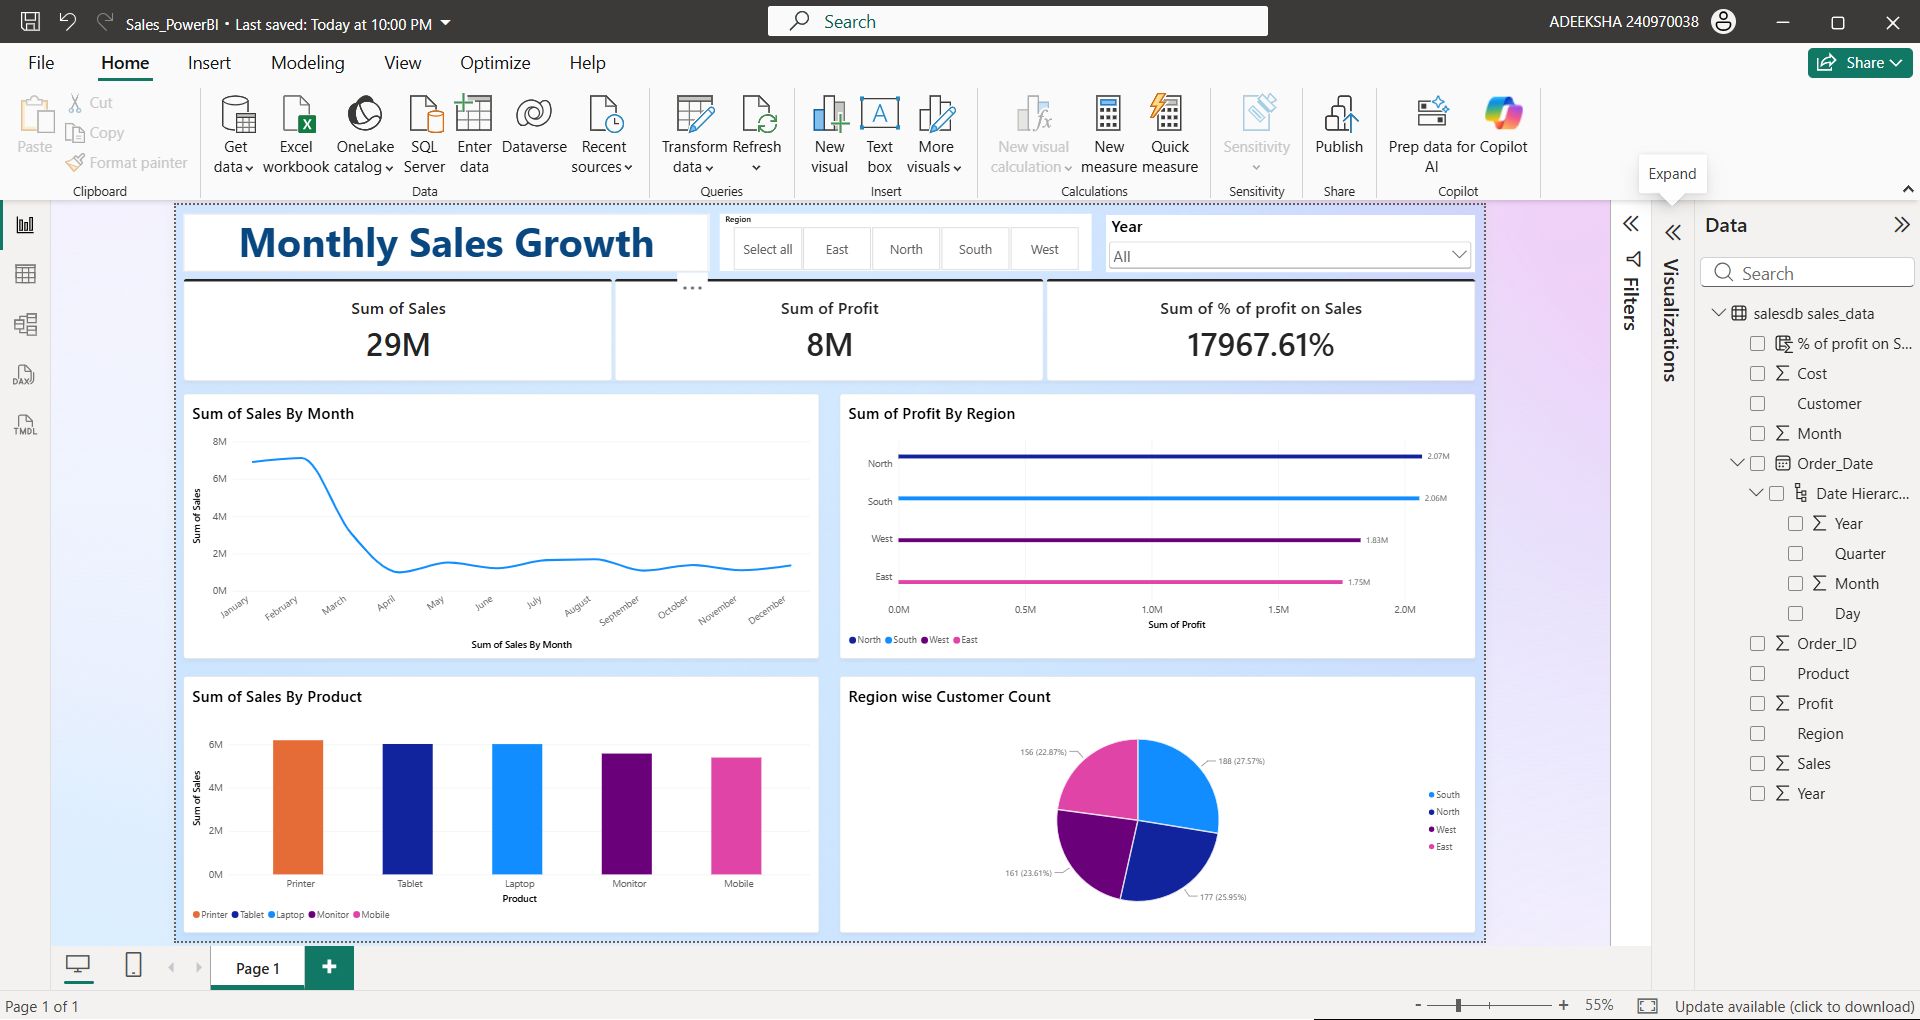

What the dashboard file says about the page in this screenshot:
{"tool":"powerbi","page":{"name":"Page 1","canvas":[1920,1080],"ordinal":0},"visuals":[{"type":"cardVisual","fields":{"Data":["Sum(salesdb sales_data.Sales)","Sum(salesdb sales_data.Profit)","Sum(salesdb sales_data.% of profit on Sales)"]},"box":[10.3,109.1,1895.7,150.3],"z":0},{"type":"lineChart","title":"Sum of Sales By Month","fields":{"Category":["salesdb sales_data.Order_Date.Variation.Date Hierarchy.Month"],"Y":["Sum(salesdb sales_data.Sales)"]},"box":[10.3,277.9,932.4,389],"z":1000},{"type":"clusteredBarChart","title":"Sum of Profit By Region","fields":{"Category":["salesdb sales_data.Region"],"Series":["salesdb sales_data.Region"],"Y":["Sum(salesdb sales_data.Profit)"]},"box":[973.6,277.9,932.4,389],"z":2000},{"type":"columnChart","title":"Sum of Sales By Product","fields":{"Category":["salesdb sales_data.Product"],"Series":["salesdb sales_data.Product"],"Y":["Sum(salesdb sales_data.Sales)"]},"box":[10.3,691.6,932.4,376.7],"z":3000},{"type":"pieChart","title":"Region wise Customer Count","fields":{"Category":["salesdb sales_data.Region"],"Y":["CountNonNull(salesdb sales_data.Customer)"]},"box":[973.6,691.6,932.4,376.7],"z":4000},{"type":"textbox","box":[10.3,12.3,771.9,84.4],"z":5000},{"type":"slicer","fields":{"Values":["salesdb sales_data.Region"]},"box":[798.6,12.3,545.5,84],"z":6000},{"type":"slicer","fields":{"Values":["salesdb sales_data.Year"]},"box":[1364.7,14.4,541.3,84.4],"z":7000}]}

Visuals, with their boxes on the page's 1920x1080 design canvas (x1, y1, x2, y2). These are canvas units, not pixel positions in the 1920x1020 screenshot, which may show the page scaled, cropped or inside an application window:
cardVisual - Sum(salesdb sales_data.Sales) x Sum(salesdb sales_data.Profit): 10/109/1906/259
"Sum of Sales By Month" lineChart: 10/278/943/667
"Sum of Profit By Region" clusteredBarChart: 974/278/1906/667
"Sum of Sales By Product" columnChart: 10/692/943/1068
"Region wise Customer Count" pieChart: 974/692/1906/1068
textbox: 10/12/782/97
slicer - salesdb sales_data.Region: 799/12/1344/96
slicer - salesdb sales_data.Year: 1365/14/1906/99
